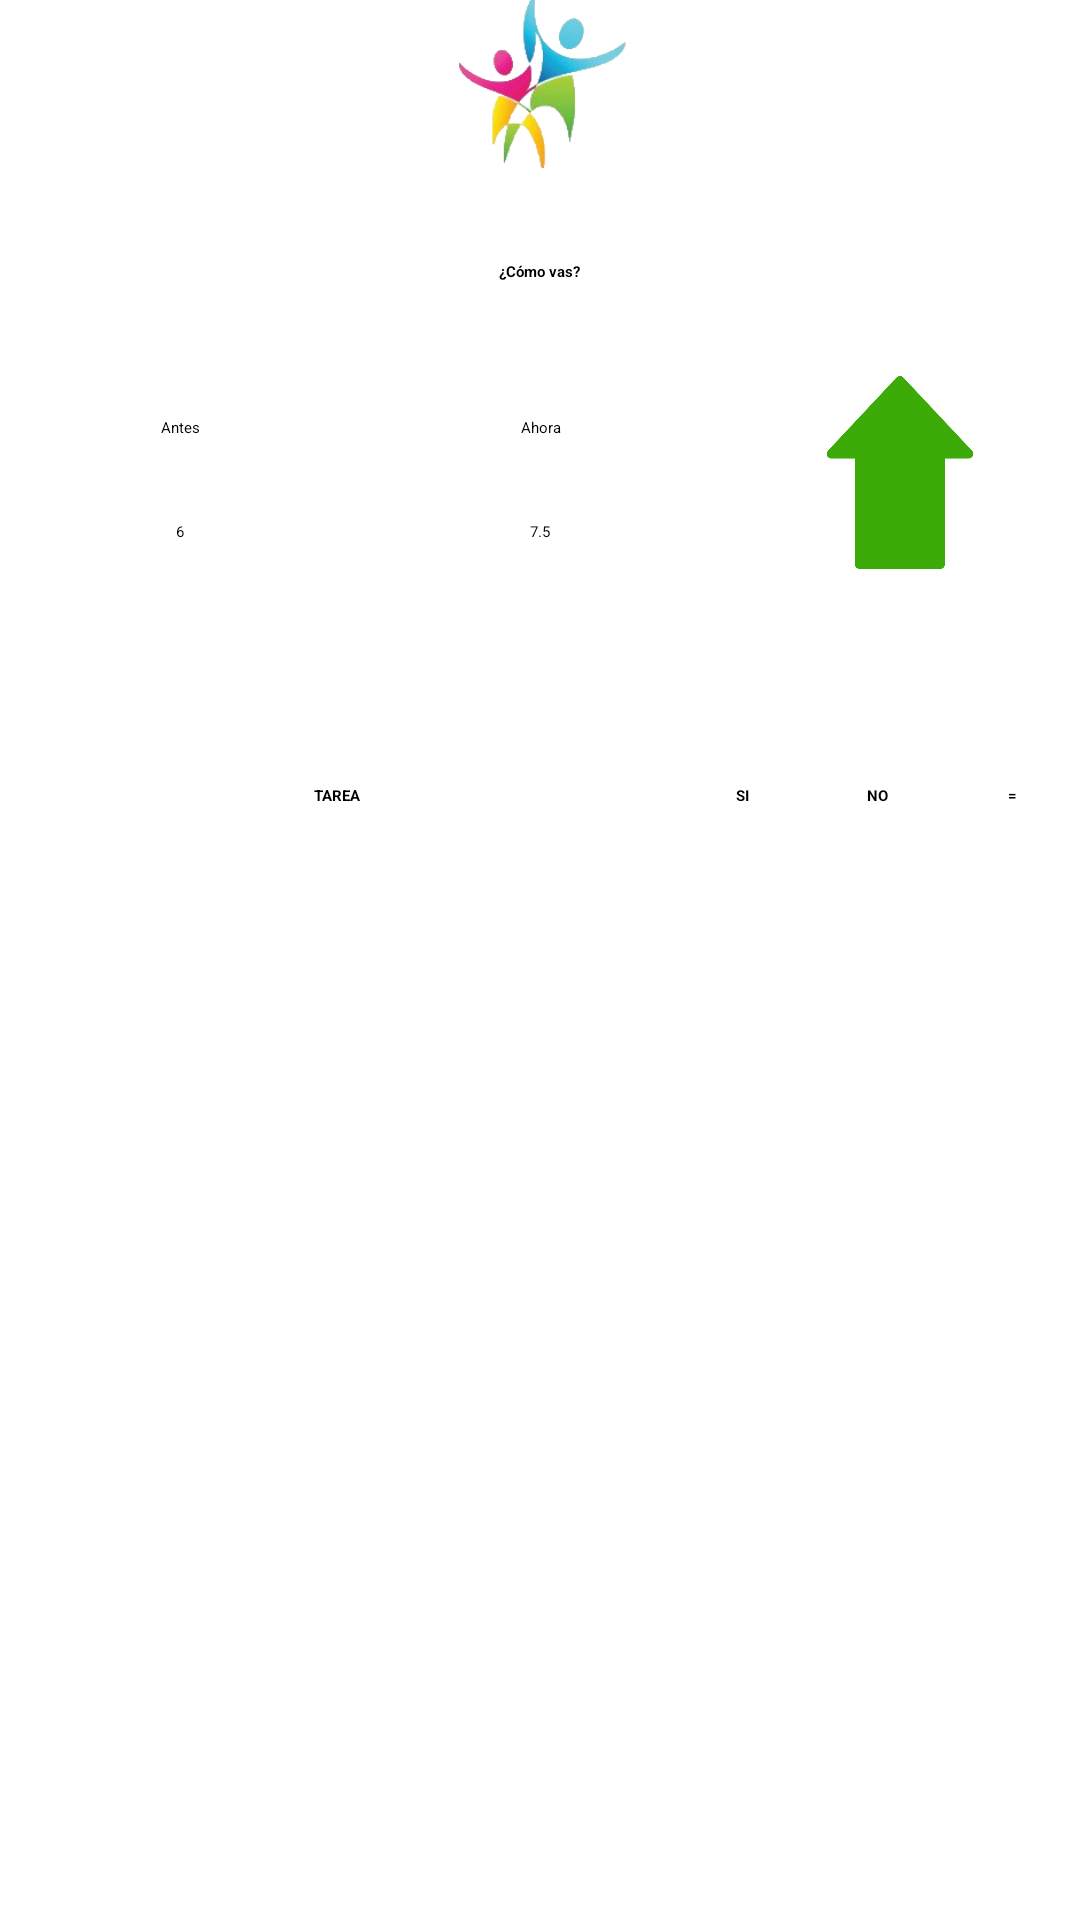

Named icons in this screenshot (1080×1920) and their bounding boxes, (x1, y1, x2, y2):
flechaverde: (827, 376, 973, 569)
